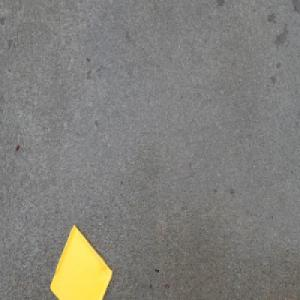PlasticPart: (50, 223, 115, 300)
